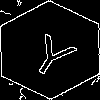Y: (25, 25, 84, 81)
